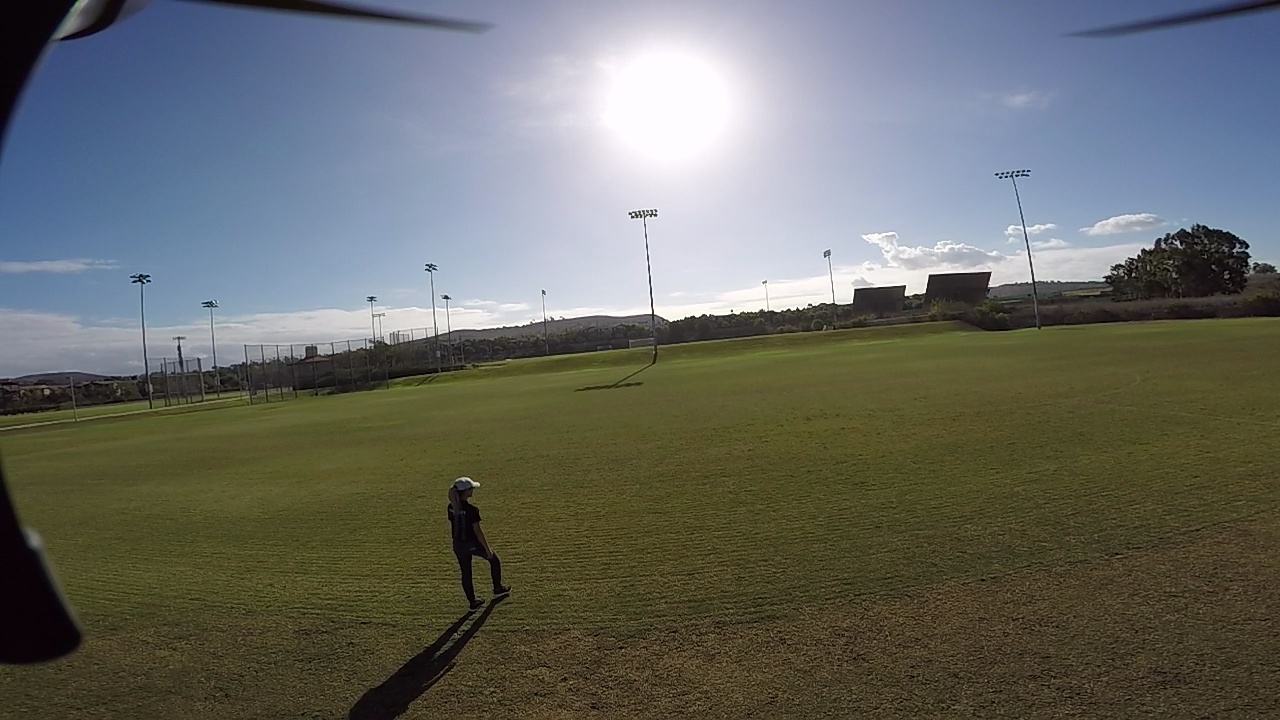person: (439, 475, 500, 603)
